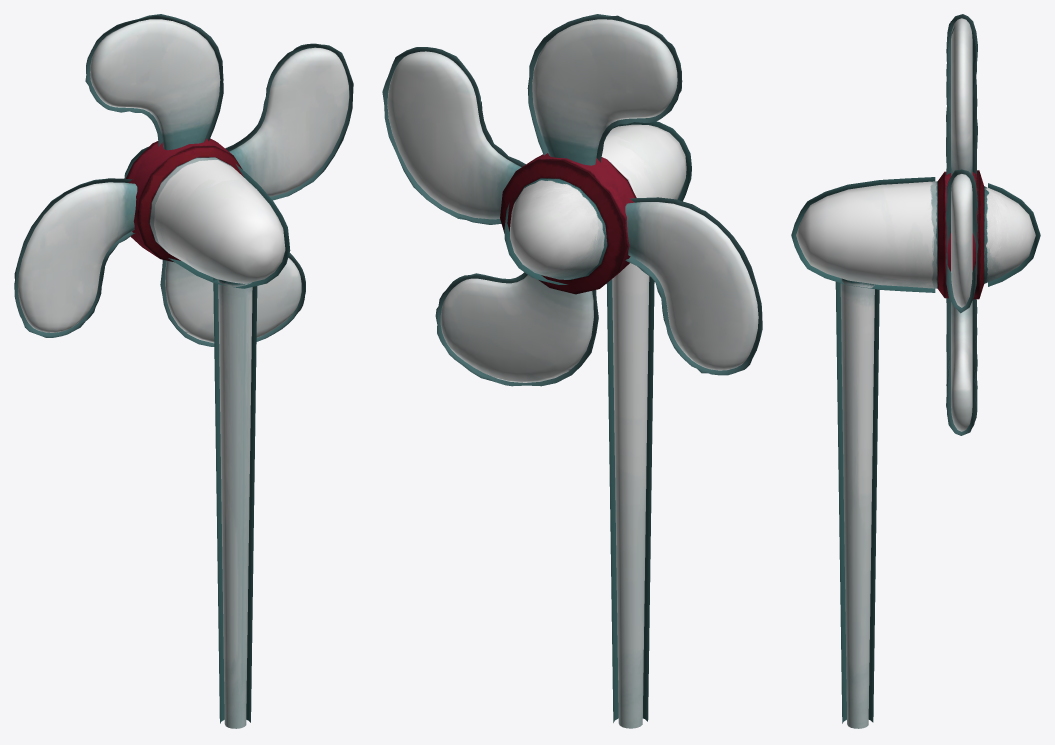
3 views of the same model, side by side, from view 1: azimuth 30°, elevation 25°; view 2: azimuth 150°, elevation 25°; view 3: azimuth 270°, elevation 25° (orthographic). The views are drawn at different scales.
Visible parts, largest first — view 1: Object_19; view 2: Object_19; view 3: Object_19.
Part boxes in pixels (box(x1,y1,x2,y2)): Object_19: box(14, 14, 353, 728); Object_19: box(382, 14, 762, 728); Object_19: box(791, 14, 1040, 728).
Bounding box in the file's own units: 60.39 × 115 × 38.41.
Materials: 1 (1 with a texture image).
